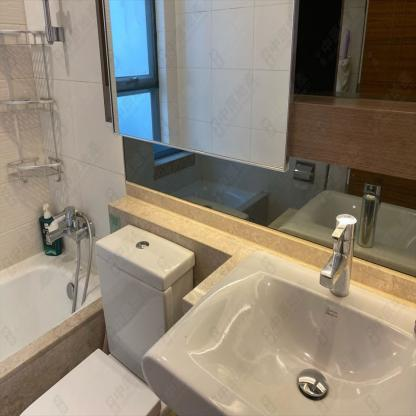Bathtub: (1, 245, 102, 413)
Faucet: (324, 209, 365, 299)
Toilet: (17, 225, 195, 414)
Toilet Sink: (140, 249, 415, 415)
